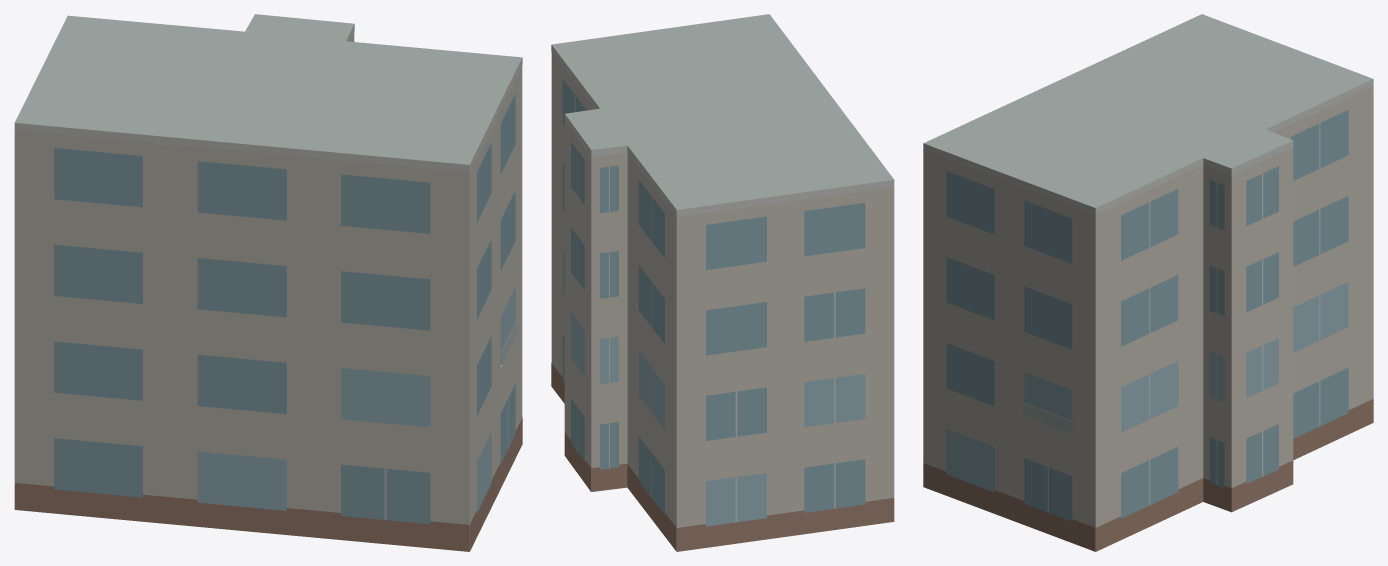
File: survey-upis-32528849.glb
3 views of the same model, side by side, from view 1: azimuth 30°, elevation 25°; view 2: azimuth 150°, elevation 25°; view 3: azimuth 270°, elevation 25° (orthographic). The views are drawn at different scales.
Parts seen in each view (by area): view 1: survey-upis-32528849.tmp; view 2: survey-upis-32528849.tmp; view 3: survey-upis-32528849.tmp.
Part boxes in pixels (x1,y1,x2,y2): survey-upis-32528849.tmp: (14, 14, 522, 551); survey-upis-32528849.tmp: (551, 14, 894, 551); survey-upis-32528849.tmp: (923, 14, 1373, 551).
Size of the model in its own units: 14.54 by 12 by 14.26.
